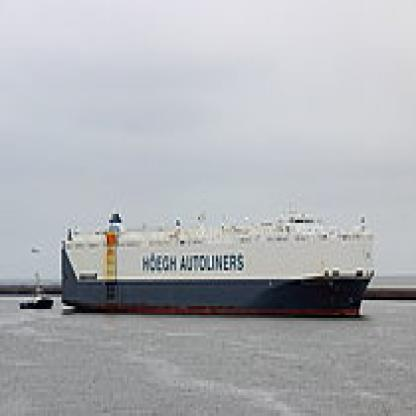Tanker: (57, 230, 382, 324)
